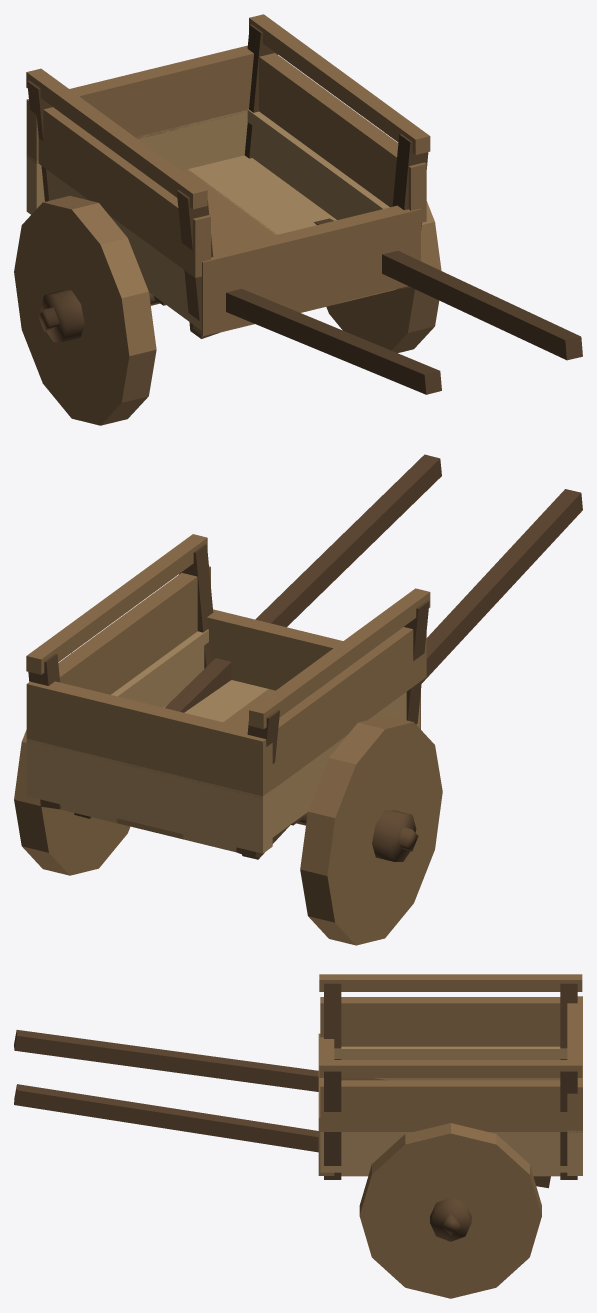
File: hand_cart_lod1.glb
3 views of the same model, one above another, from view 1: azimuth 30°, elevation 25°; view 2: azimuth 150°, elevation 25°; view 3: azimuth 270°, elevation 25° (orthographic). The views are drawn at different scales.
Visible parts, largest first — view 1: CartBody.001, WheelLeft.001, WheelRight.001; view 2: CartBody.001, WheelLeft.001, WheelRight.001; view 3: CartBody.001, WheelRight.001.
Boxes of the visible parts, box(x1,y1,x2,y2) form: CartBody.001: box(26, 14, 582, 394); WheelLeft.001: box(14, 196, 156, 425); WheelRight.001: box(326, 133, 441, 352); CartBody.001: box(26, 454, 582, 859); WheelLeft.001: box(300, 715, 442, 945); WheelRight.001: box(14, 653, 130, 875); CartBody.001: box(14, 974, 582, 1235); WheelRight.001: box(359, 1123, 541, 1298).
Bounding box in the file's own units: 1.62 × 1.16 × 2.74.
